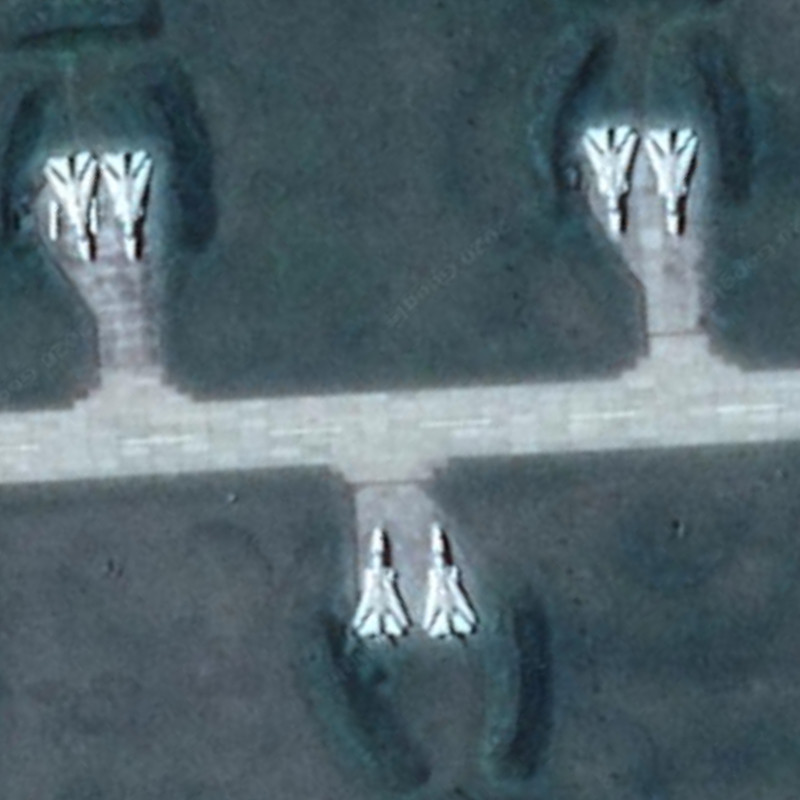A20: (37, 150, 108, 269), (576, 119, 643, 241), (98, 138, 161, 261), (351, 527, 410, 649), (420, 524, 480, 642), (648, 126, 700, 240)
